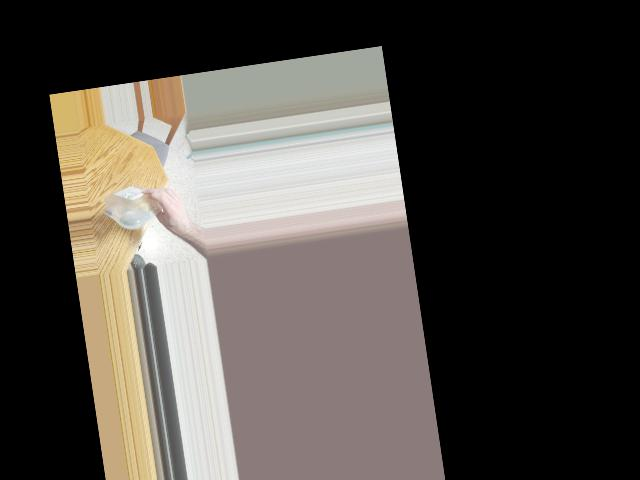cheese: (104, 182, 173, 227)
